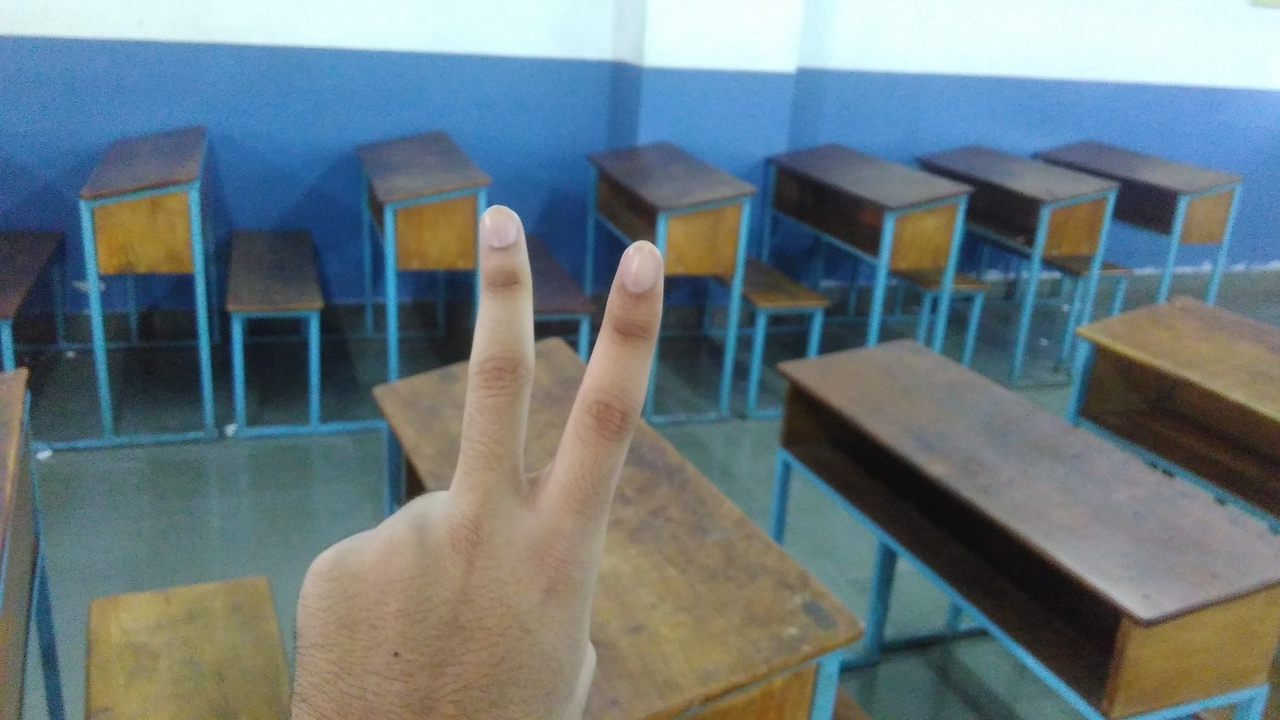fingertip: (604, 232, 668, 306), (466, 196, 532, 260)
